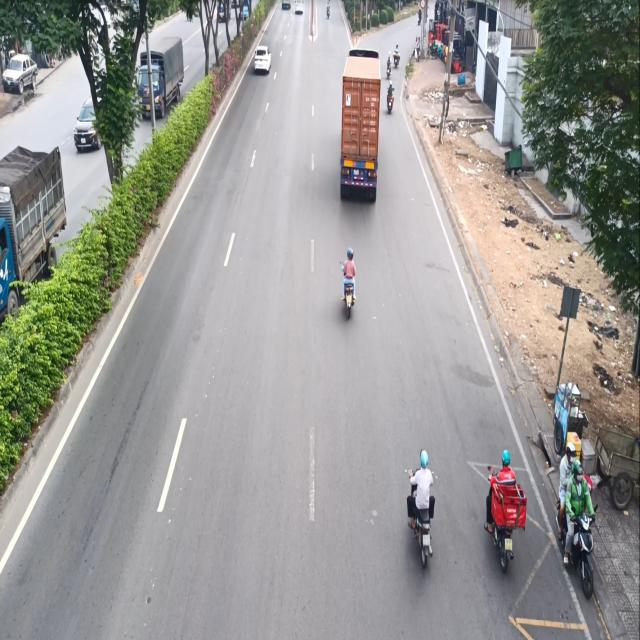car: (250, 39, 271, 80)
motor: (479, 438, 528, 581), (558, 444, 599, 600), (402, 442, 439, 578), (339, 237, 359, 322), (386, 78, 396, 118)
truck: (336, 42, 384, 215)
